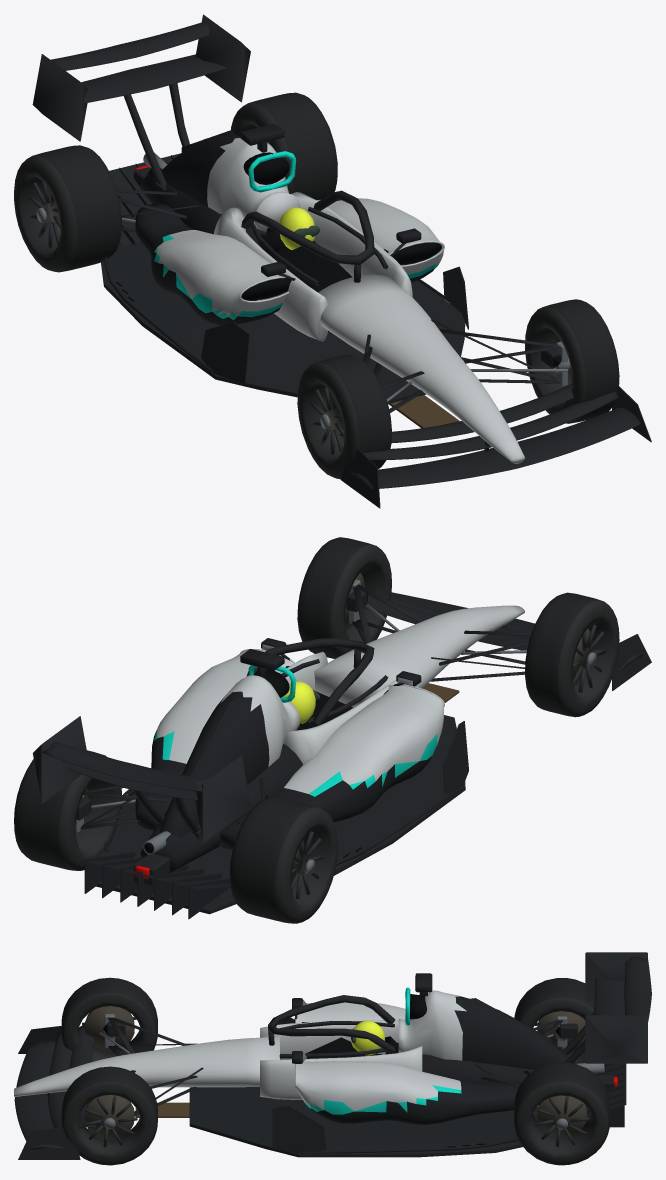
The picture shows the model from 3 angles, top to bottom: view 1: azimuth 30°, elevation 25°; view 2: azimuth 150°, elevation 25°; view 3: azimuth 270°, elevation 25°; orthographic projection. The views are drawn at different scales.
Visible parts, largest first — view 1: L2_Chassis, L2_Wheel_RL, L2_Wheel_FL, L2_Wheel_FR, L2_Wheel_RR; view 2: L2_Chassis, L2_Wheel_RL, L2_Wheel_FL, L2_Wheel_RR, L2_Wheel_FR; view 3: L2_Chassis, L2_Wheel_RR, L2_Wheel_FR, L2_Wheel_FL, L2_Wheel_RL.
Boxes of the visible parts, x1,y1,x2,y2 form: L2_Chassis: [32, 14, 651, 508]; L2_Wheel_RL: [14, 145, 121, 272]; L2_Wheel_FL: [297, 354, 391, 479]; L2_Wheel_FR: [525, 299, 619, 423]; L2_Wheel_RR: [231, 92, 337, 199]; L2_Chassis: [32, 573, 651, 919]; L2_Wheel_RL: [230, 796, 337, 923]; L2_Wheel_FL: [525, 592, 619, 717]; L2_Wheel_RR: [14, 750, 121, 870]; L2_Wheel_FR: [297, 537, 391, 658]; L2_Chassis: [14, 952, 651, 1159]; L2_Wheel_RR: [513, 1062, 610, 1165]; L2_Wheel_FR: [61, 1066, 157, 1165]; L2_Wheel_FL: [61, 977, 157, 1061]; L2_Wheel_RL: [514, 978, 594, 1063].
Bounding box in the file's own units: 1.9 × 1.13 × 4.8.
